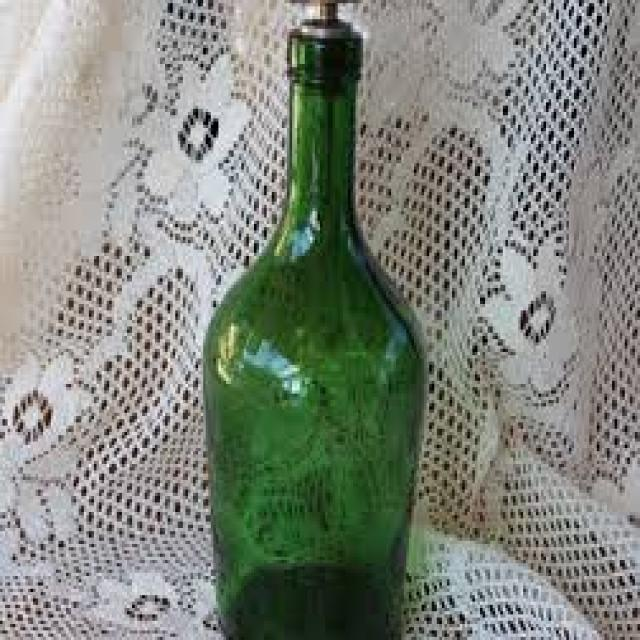glass: (198, 16, 427, 637)
